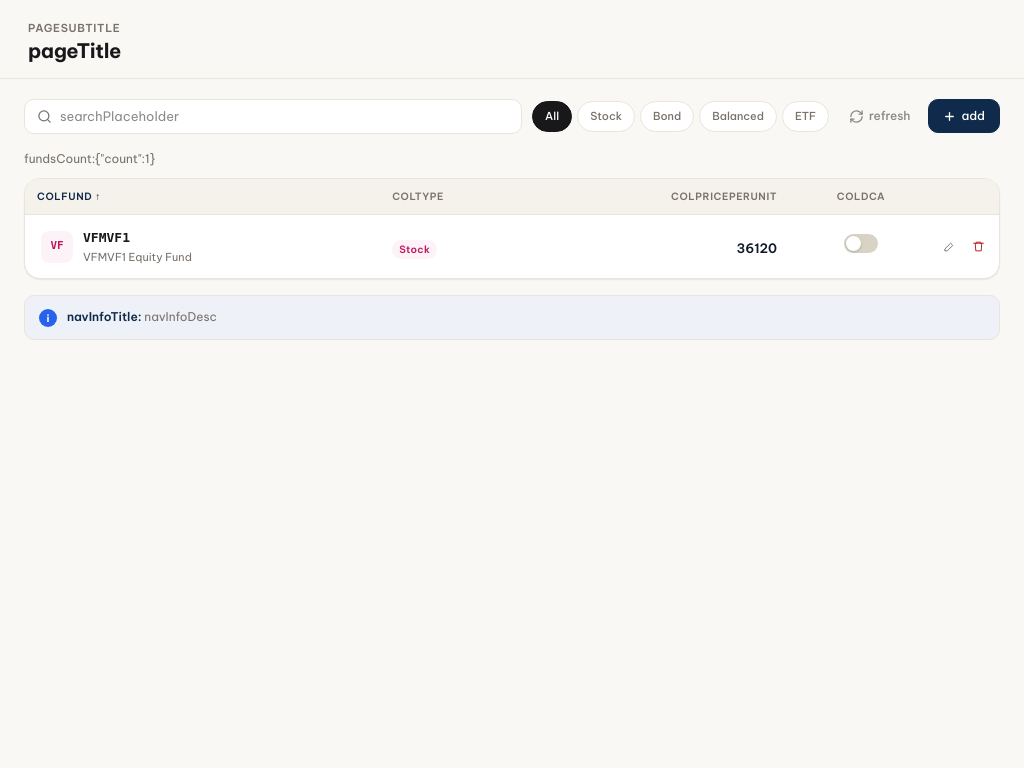
Test: DesktopFundLibraryView — dialog a11y (Esc + focus) › Escape closes the delete modal, and focus moves into it on open
Click the button with test id "fund-delete-btn" at (978, 246), box [966, 234, 991, 259]
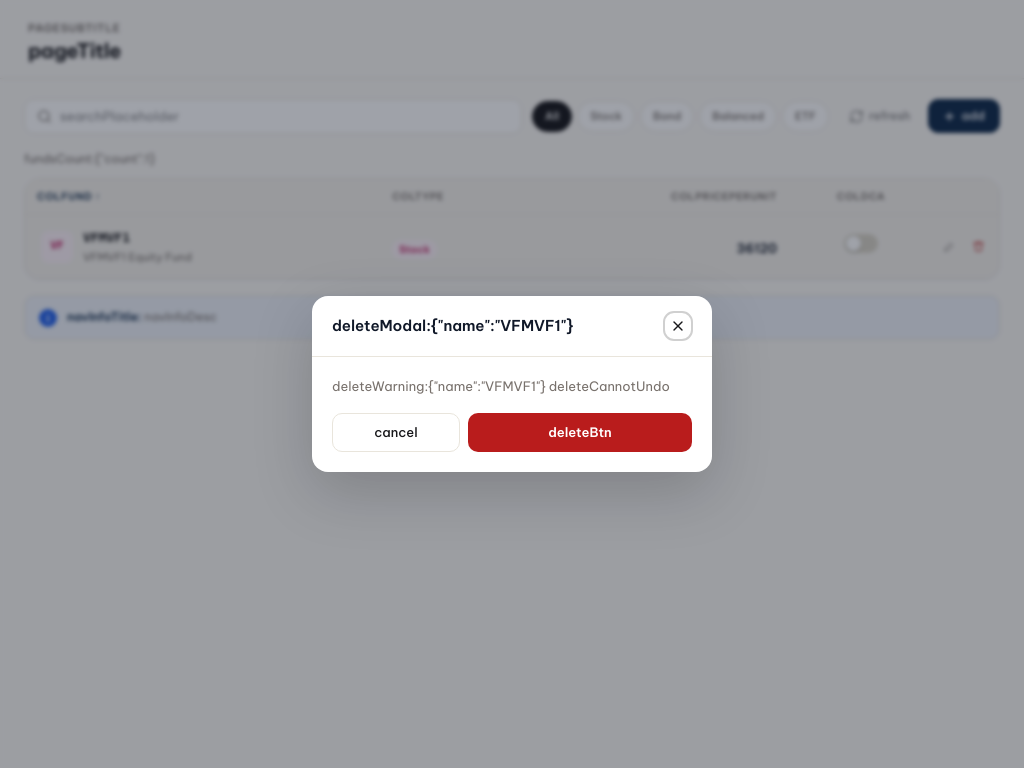
Press Escape
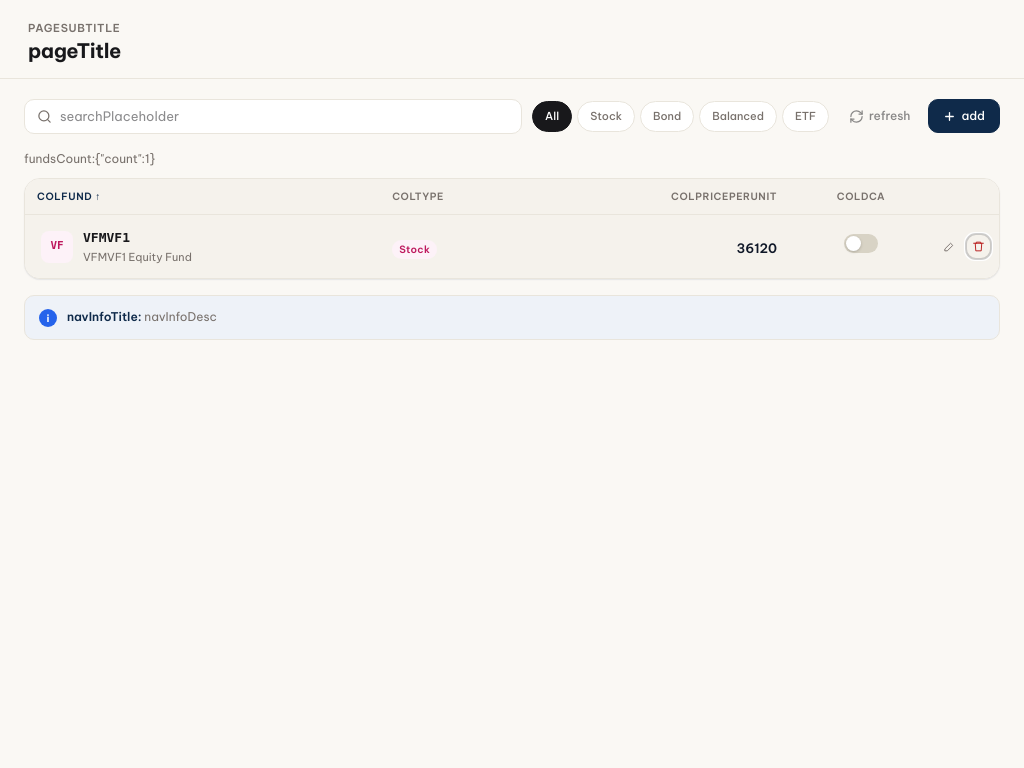
Result: the dialog with test id "delete-fund-modal" is gone
